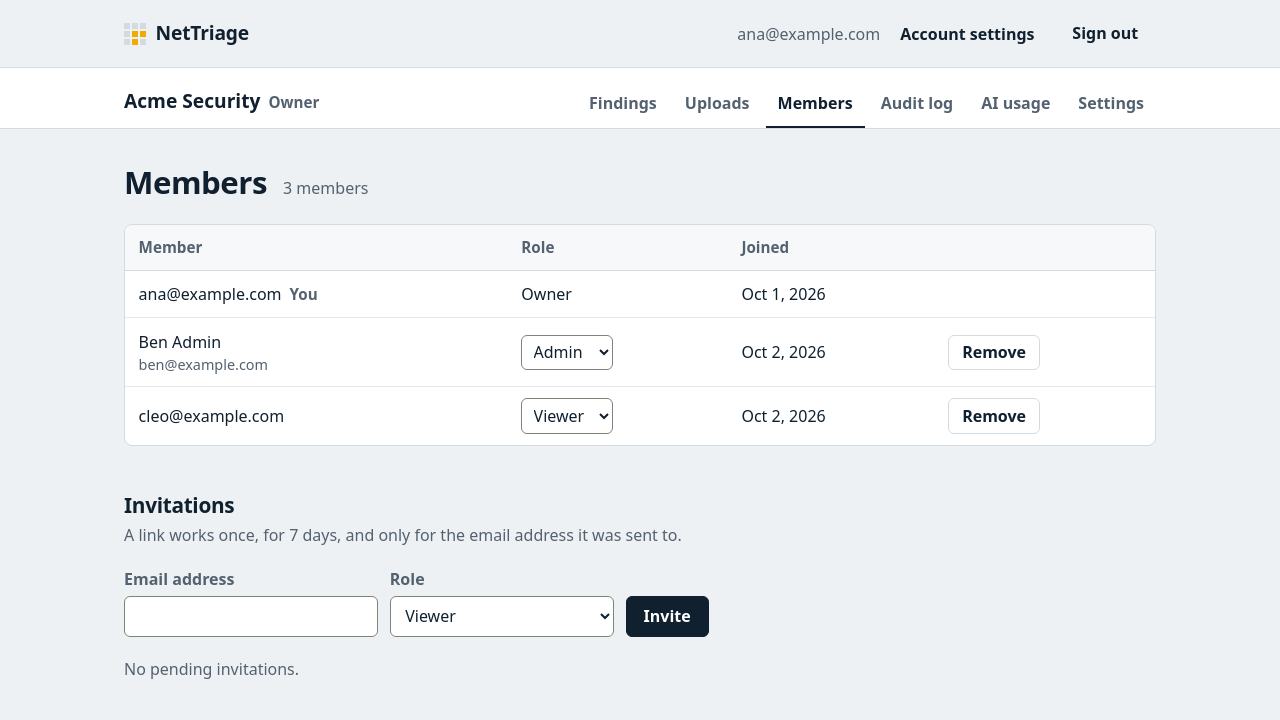
Test: a role someone else changed shows up, with nothing offered to save
Note: Removing Ben reloads the list, which brings in the role someone else gave Cleo.
Step 1. Click the button with aria-label "Remove Ben Admin" → [994, 352], box [948, 335, 1040, 370]
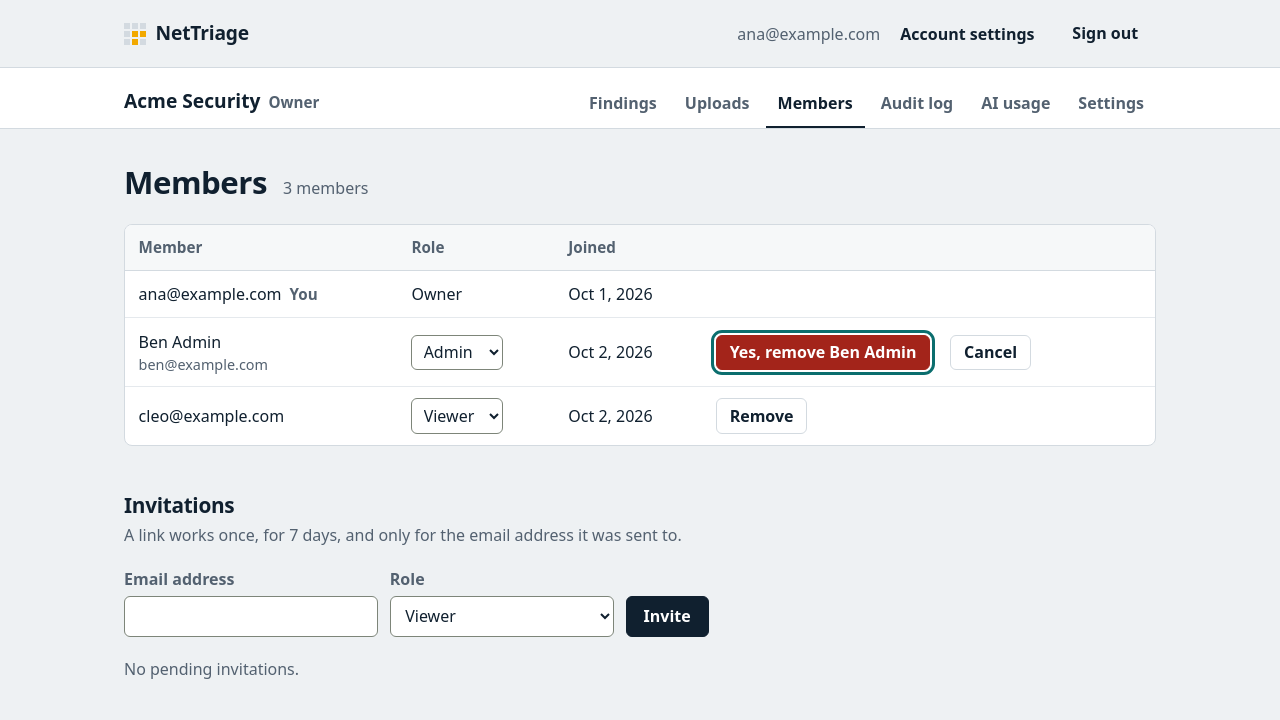
Step 2. Click the button "Yes, remove Ben Admin" → [823, 352], box [716, 335, 930, 370]
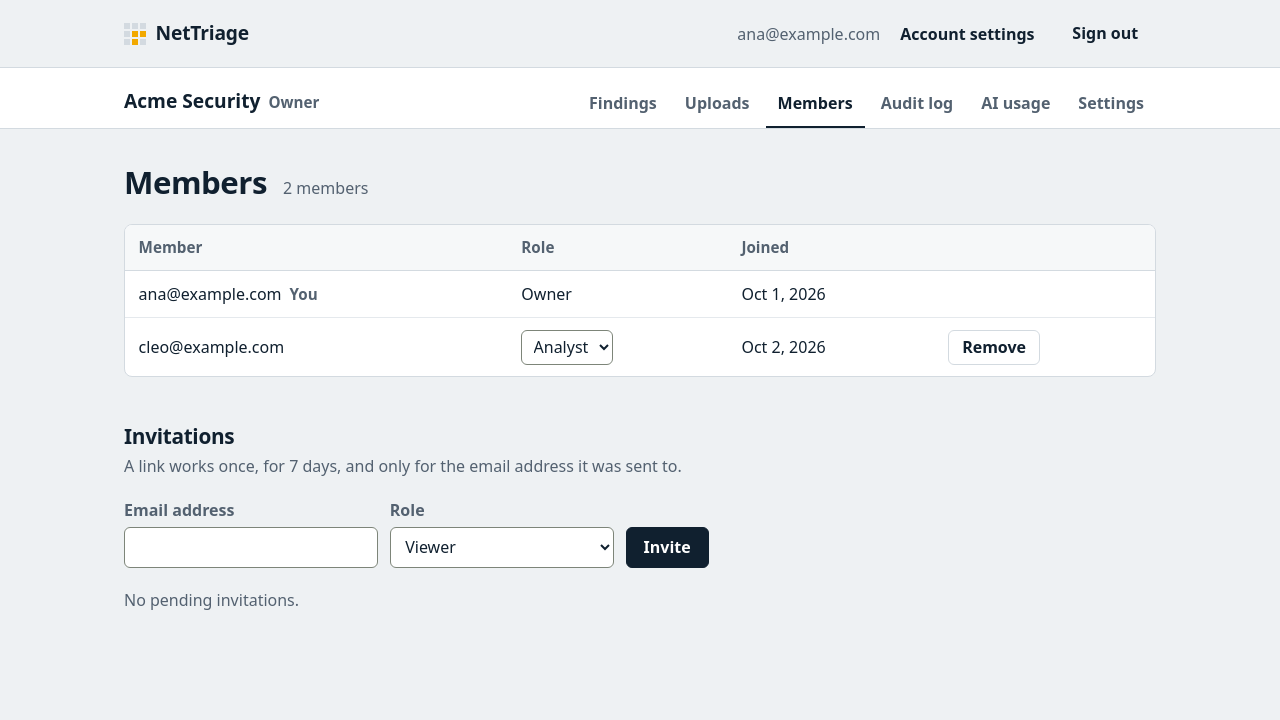
Result: the text "Ben Admin" is gone
Result: the dropdown named "Role of cleo@example.com" shows "Analyst" at [521, 330, 613, 365]
